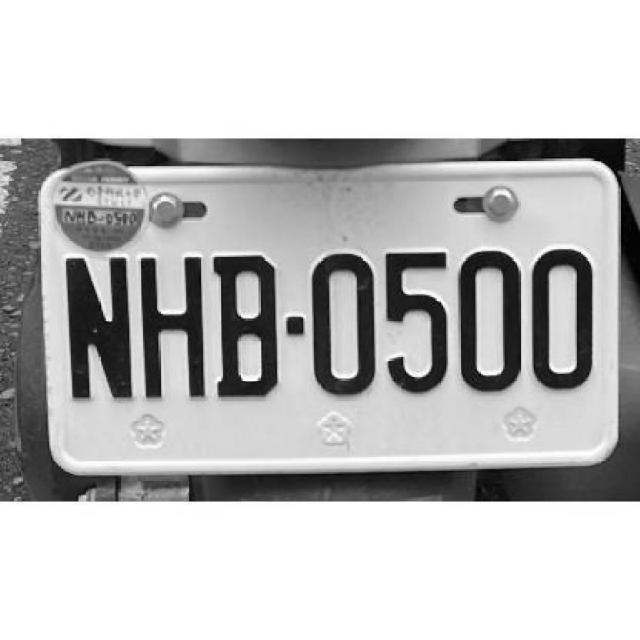-: (285, 315, 303, 337)
0: (452, 247, 522, 398), (309, 246, 377, 399), (528, 245, 595, 392)
5: (383, 249, 448, 402)
B: (214, 252, 281, 400)
H: (136, 252, 210, 400)
N: (60, 254, 134, 403)
